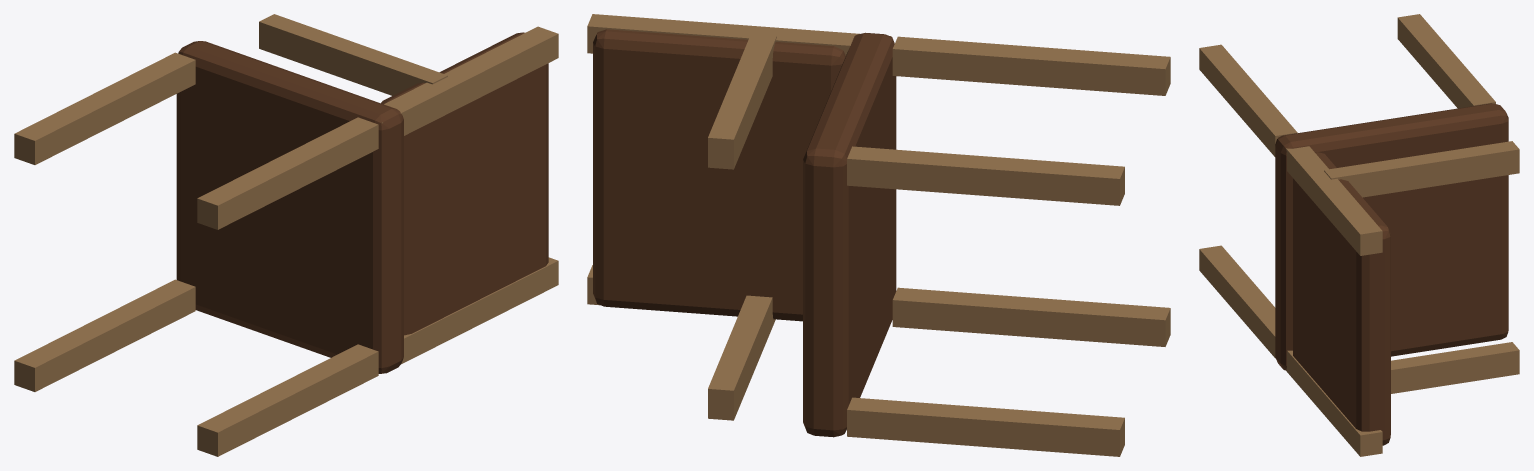
Rendered from lobby_chair_tipped.glb.
The picture shows the model from 3 angles, left to right: view 1: azimuth 30°, elevation 25°; view 2: azimuth 150°, elevation 25°; view 3: azimuth 270°, elevation 25°; orthographic projection. The views are drawn at different scales.
Visible parts, largest first — view 1: lobby_chair_tipped; view 2: lobby_chair_tipped; view 3: lobby_chair_tipped.
Boxes of the visible parts, x1,y1,x2,y2 form: lobby_chair_tipped: (14, 14, 558, 456); lobby_chair_tipped: (587, 14, 1170, 456); lobby_chair_tipped: (1199, 14, 1519, 456).
Size of the model in its own units: 0.9886 by 0.48 by 0.6069.
Materials: 2 (2 with a texture image).
